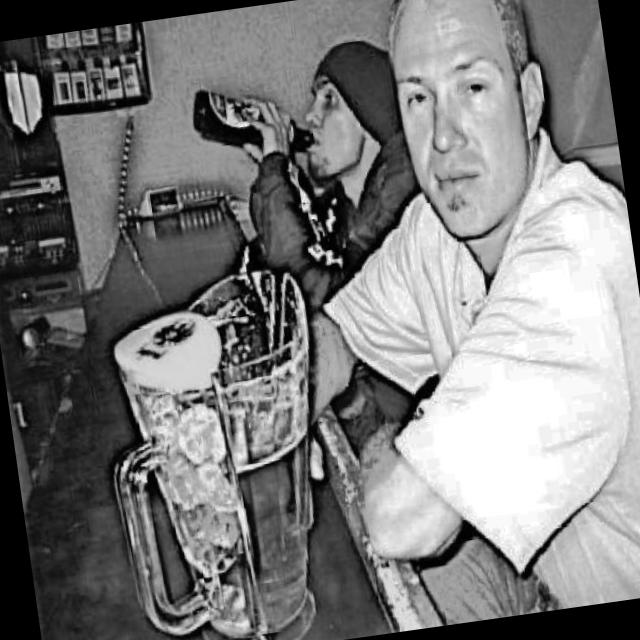Person: (262, 0, 640, 638), (228, 30, 438, 333)
